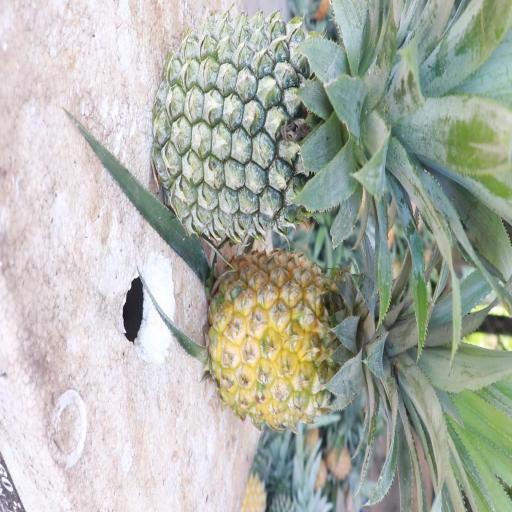Pineapple - v8 v1: (212, 238, 492, 506)
